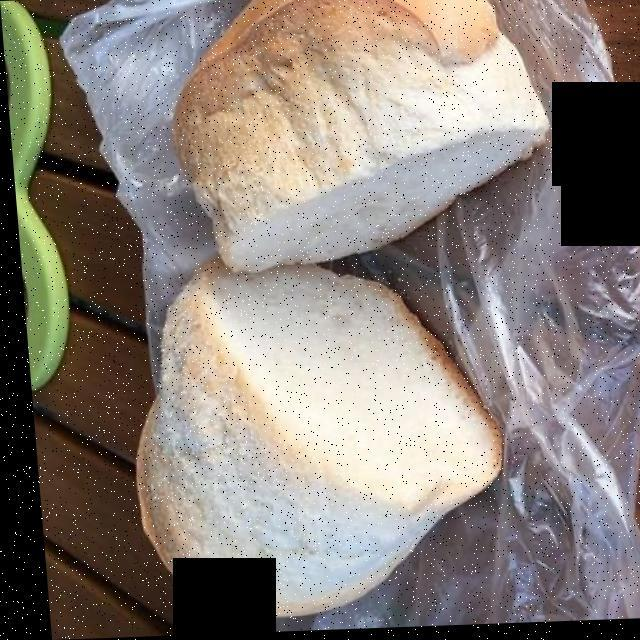bread: (110, 3, 550, 602)
